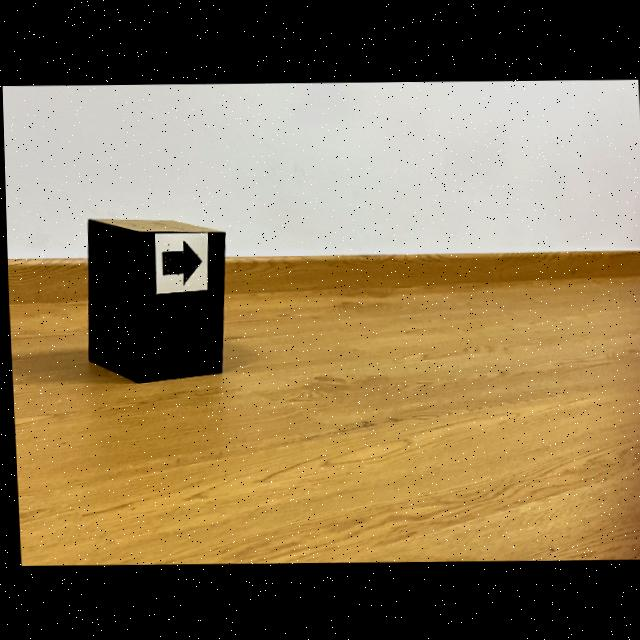RIGHT: (160, 241, 200, 283)
